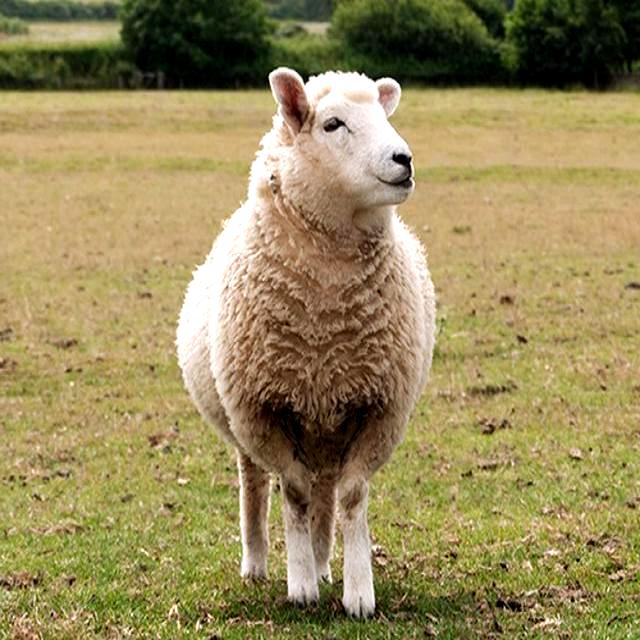sheep: (179, 65, 438, 617)
